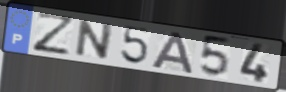4: (238, 41, 271, 85)
5: (197, 33, 235, 80), (118, 24, 152, 66)
A: (149, 30, 196, 75)
N: (72, 18, 116, 61)
Z: (31, 10, 78, 57)
